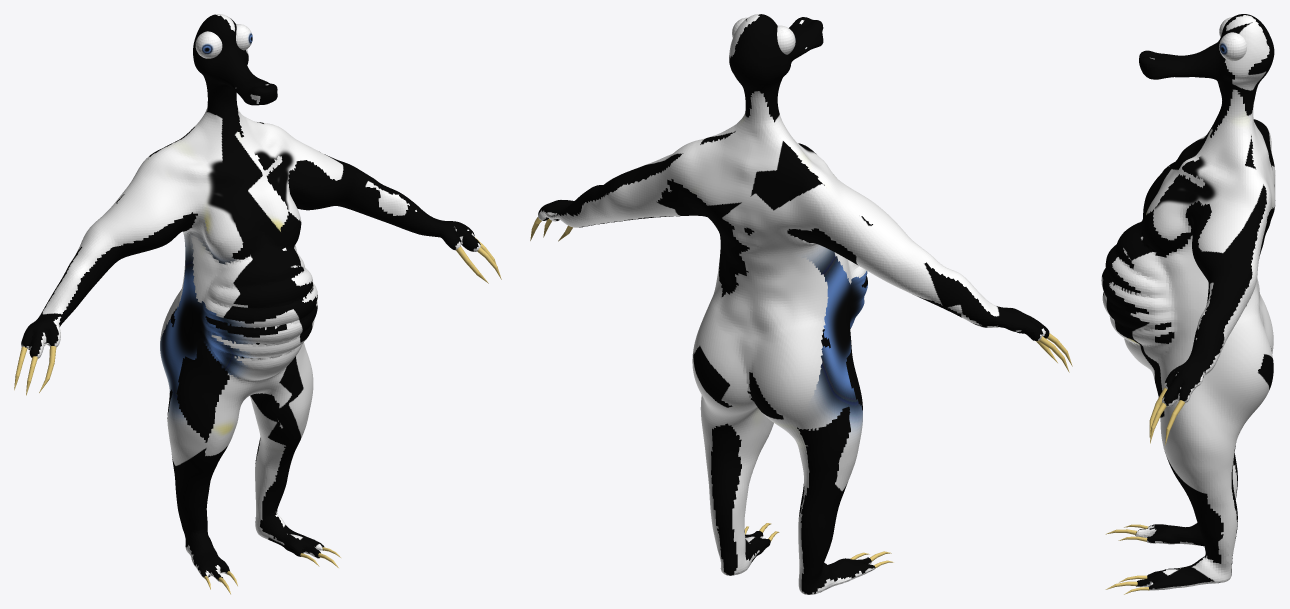
Rendered from dinkkkkkkkkkkkkkkkkkk.fbx.
3 renders of one model, left to right at view 1: azimuth 30°, elevation 25°; view 2: azimuth 150°, elevation 25°; view 3: azimuth 270°, elevation 25°, orthographic. The views are drawn at different scales.
Parts seen in each view (by area): view 1: Sphere; view 2: Sphere; view 3: Sphere.
Boxes of the visible parts, <box> form: Sphere: <box>14,14,501,594</box>; Sphere: <box>530,14,1072,594</box>; Sphere: <box>1101,14,1275,594</box>.
Bounding box in the file's own units: 1071 × 1094 × 316.
Materials: 3 (2 with a texture image).
